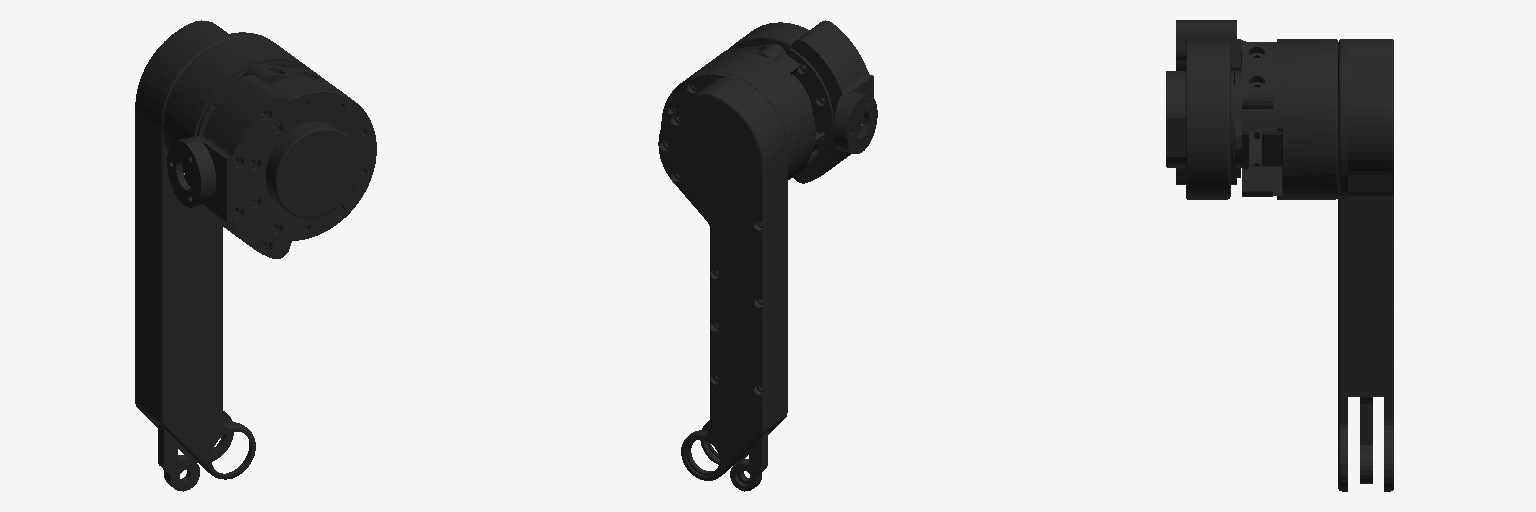
URDF robot description (single_leg):
<?xml version="1.0" ?>
<robot name="single_leg">

  <material name="blue">
    <color rgba="0.0 0.5 0.8 0.9"/>
  </material>

  <material name="black1">
    <color rgba="0.2 0.2 0.2 1"/>
  </material>

  <material name="white">
    <color rgba="0.9 0.9 0.9 0.5"/>
  </material>

  <link name="world"/>

  <joint name="fixed" type="fixed">
    <origin rpy="0 0 0" xyz="0 0 0.5"/>
    <parent link="world"/>
    <child link="base"/>
  </joint>

  <link name="base">
    <visual>
      <origin rpy="0 0 0" xyz="0 0 0"/>
      <geometry>
        <box size="0.001 0.001 0.001"/>
      </geometry>
    </visual>
  </link>

  <!--Front Left-->
  <link name="FL_hip">
    <inertial>
      <origin xyz="0.058975220413676505 -0.016130924422260128 -9.470708630414767e-05" rpy="0 0 0"/>
      <mass value = "0.7498"/>
      <inertia ixx = "0.000564" iyy = "0.00108127" izz = "0.000706572" ixy = "3.86383e-05" iyz = "0" ixz = "0"/>
    </inertial>
    <visual>
      <origin xyz="0.0 0.0 0.0" rpy="0 0 0"/>
      <geometry>
        <mesh filename="../meshes/hip_roll_1.stl" scale="0.001 0.001 0.001"/>
      </geometry>
      <material name="black1"/>
    </visual>
<!--    <collision>-->
<!--      <origin xyz="-0.185613 -0.065216 -0.000494" rpy="0 0 0"/>-->
<!--      <geometry>-->
<!--        <mesh filename="../meshes/hip_roll_1.stl" scale="0.001 0.001 0.001"/>-->
<!--      </geometry>-->
<!--    </collision>-->
  </link>

  <link name="FL_thigh">
    <inertial>
      <origin xyz="-0.005295476492297502 0.055863741051553104 -0.02739556562567192" rpy="0 0 0"/>
      <mass value = "1.539"/>
      <inertia ixx = "0.00728621" iyy = "0.00719179" izz = "0.00186201" ixy = "0.000190838" iyz = "0.00118773" ixz = "-0.000781702"/>
    </inertial>
    <visual>
      <origin xyz="-0.0705 0.003 0.0" rpy="0 0 0"/>
      <geometry>
        <mesh filename="../meshes/hip_pitch_1.stl" scale="0.001 0.001 0.001"/>
      </geometry>
      <material name="black1"/>
    </visual>
    <collision>
      <origin xyz="0 0.084 -0.23" rpy="1.57079632679 0 0"/>
      <geometry>
        <cylinder length="0.019" radius="0.015"/>
      </geometry>
    </collision>
  </link>

  <!--    joint -->
  <joint name="FL_HIP_ROLL" type="revolute">
    <origin xyz="0.0 0.0 0.0" rpy="0 0 0"/>
    <parent link="base"/>
    <child link="FL_hip"/>
    <axis xyz="1 0 0"/>
  </joint>

  <joint name="FL_HIP_PITCH" type="revolute">
    <origin xyz="0.0705 -0.003 0.0" rpy="0 0 0"/>
    <parent link="FL_hip"/>
    <child link="FL_thigh"/>
    <axis xyz="0 1 0"/>
  </joint>
</robot>

--- What the picture shows (computed from the rendered views, not written in the file) ---
Views: 3 orthographic renders of the robot side by side, from view 1: azimuth 30°, elevation 25°; view 2: azimuth 150°, elevation 25°; view 3: azimuth 270°, elevation 25°.
Model single_leg with 4 links and 3 joints (2 revolute, 1 fixed), rooted at world, posed every joint at zero.
Links seen in each view (by area): view 1: FL_thigh, FL_hip; view 2: FL_thigh, FL_hip; view 3: FL_thigh, FL_hip.
Link boxes in pixels (x1,y1,x2,y2): FL_thigh: (135,20,328,491); FL_hip: (167,75,376,258); FL_thigh: (658,44,822,491); FL_hip: (728,20,877,183); FL_thigh: (1234,39,1393,491); FL_hip: (1166,20,1245,199).
Size in the robot's own frame: 0.12 by 0.139 by 0.3093 metres.
2 mesh visuals loaded from 2 distinct referenced files (2 binary STL).